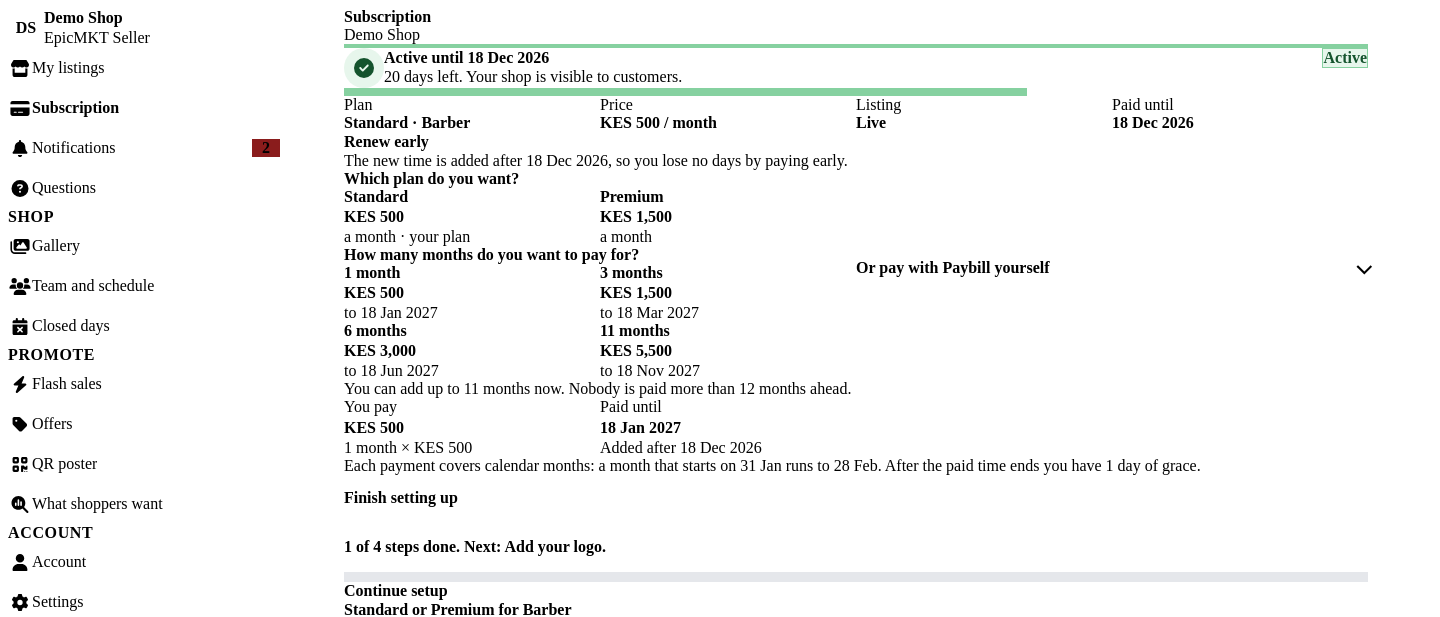
Test case: navigation › has the Account link and More toggles the extra links
This screenshot has width=1440, height=617.
Earlier steps of the test are not shown.
Click the link "Account" at (47, 562), box [8,553,86,570]
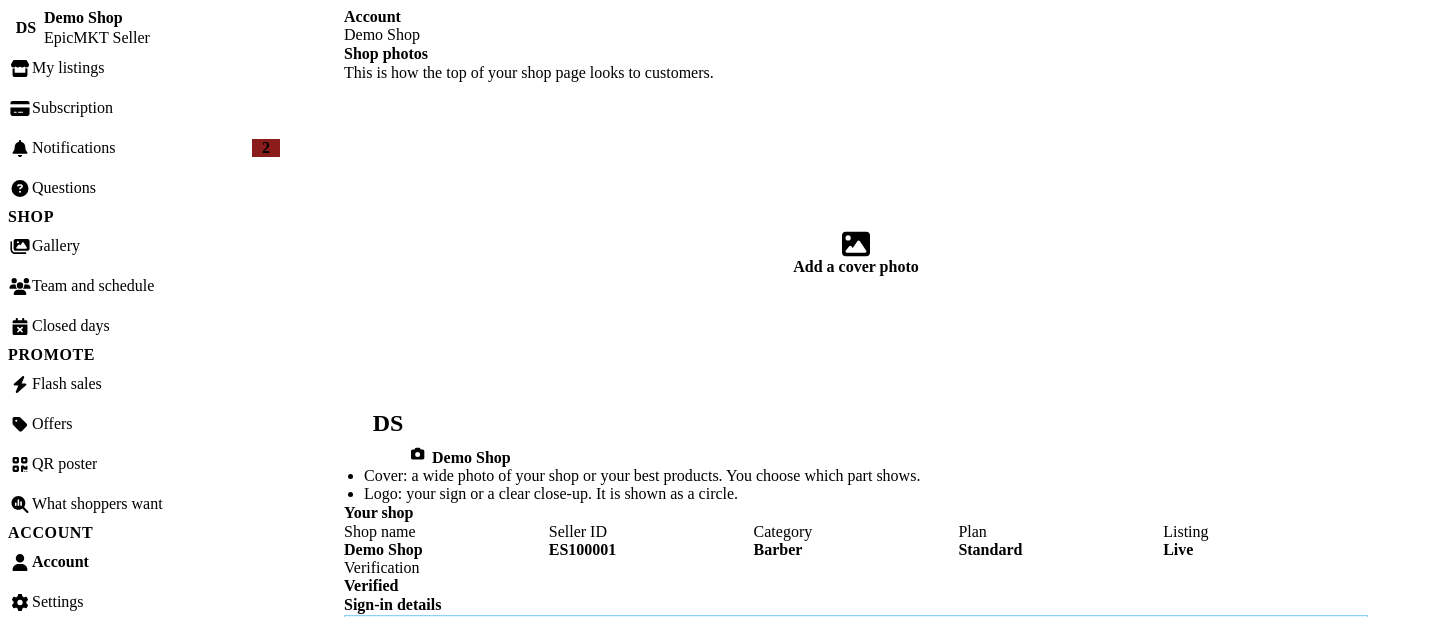
Expected: the heading "Account" is shown, [344,8,401,25]
